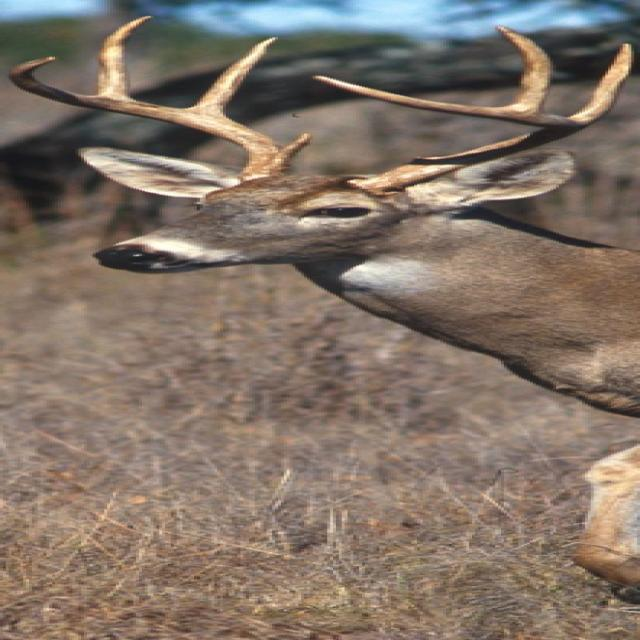L-F: (311, 75, 583, 193)
L-G2: (570, 43, 633, 129)
L-G3: (495, 26, 553, 115)
R-F: (8, 56, 285, 179)
R-G1: (279, 133, 313, 161)
R-G2: (182, 37, 279, 117)
R-G3: (95, 16, 151, 102)
